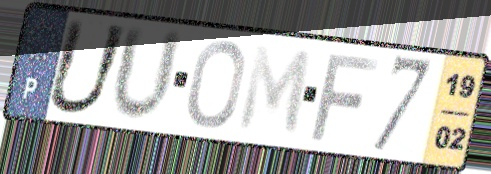7: (369, 53, 437, 154)
F: (308, 49, 382, 143)
M: (235, 42, 315, 140)
O: (185, 37, 248, 131)
U: (42, 15, 133, 118), (107, 21, 186, 126)
